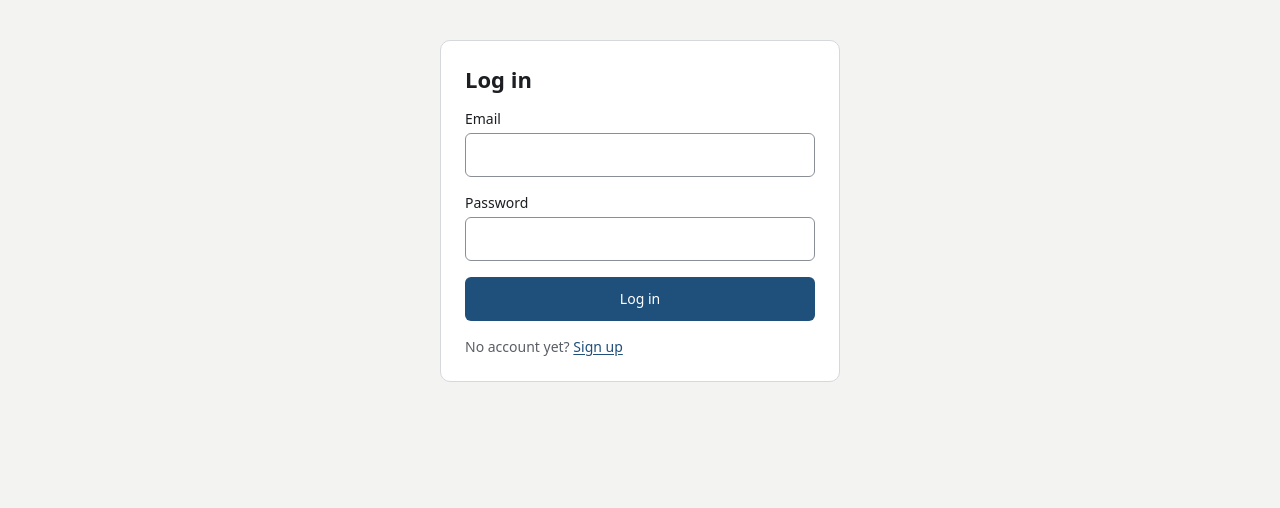
Test: auth screens › WEB-1 — sign-in gate: /cvs/new shows login without a session and returns there after login
The width and height of the screenshot is (1280, 508).
Expected: the heading "Log in" is shown, [465,64,532,94]
Expected: the heading "New CV" is not shown
Type "iryna@example.com" into the field labelled "Email" at (640, 155), box [465,133,815,177]
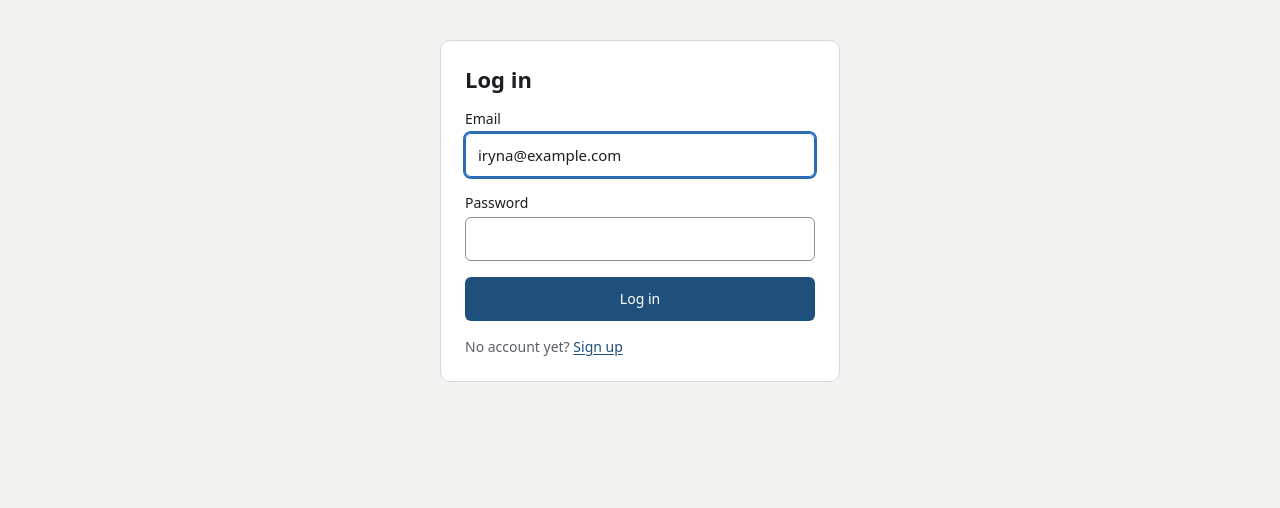
Type "correct horse" into the password field labelled "Password" at (640, 239), box [465,217,815,261]
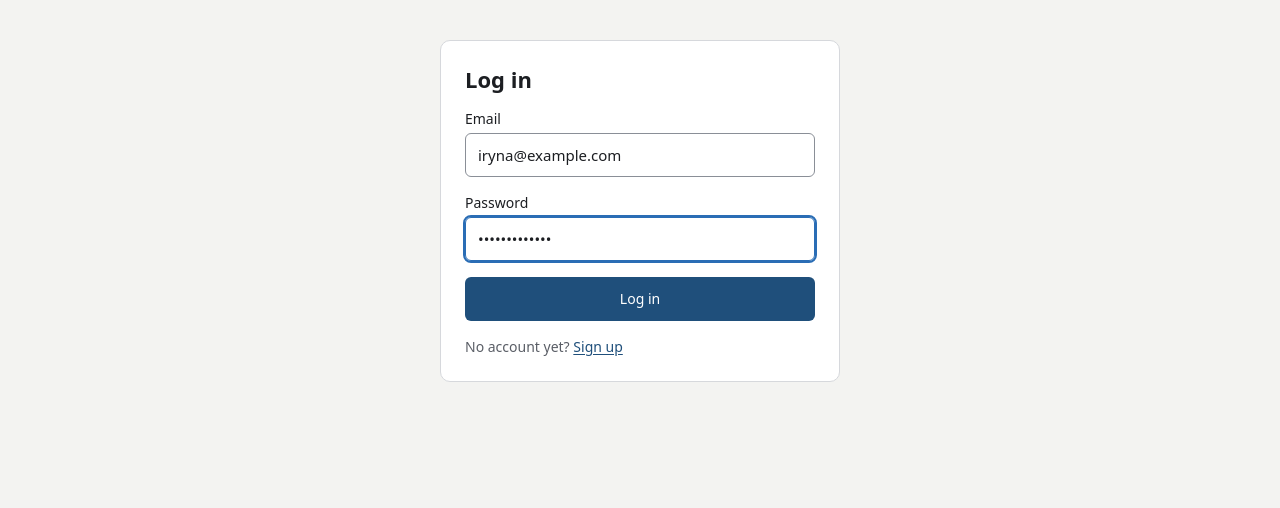
Click the button "Log in" at (640, 299), box [465,277,815,321]
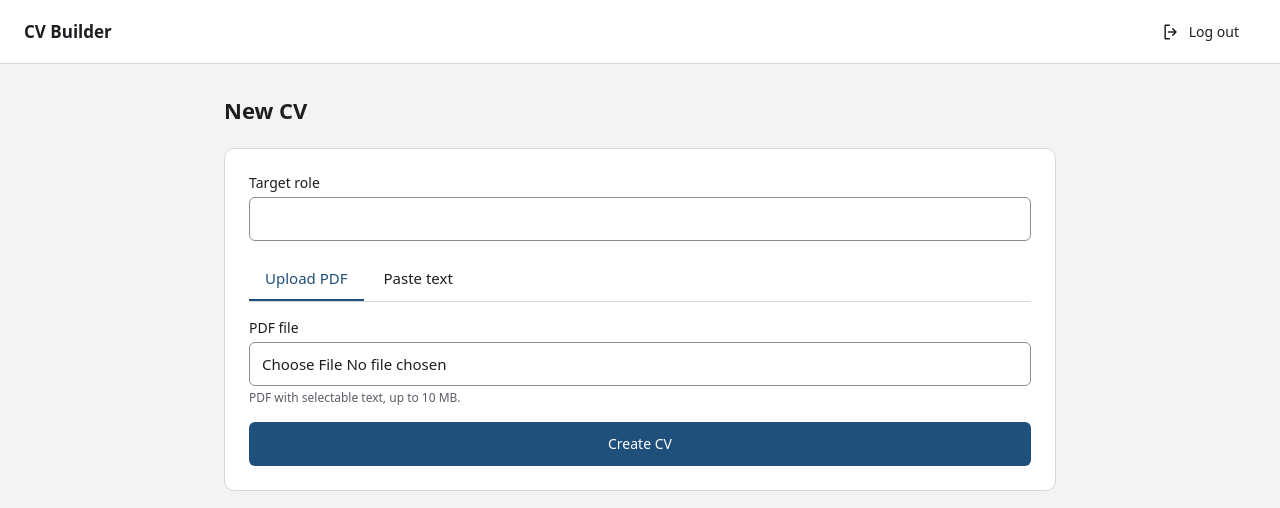
Result: the heading "New CV" is shown at [224,95,307,125]
